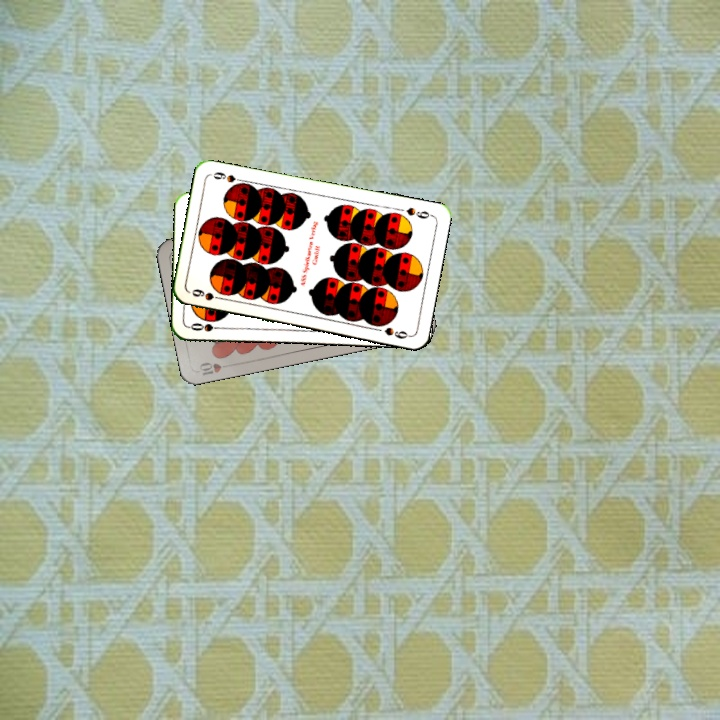H10: (195, 358, 235, 378)
S9: (188, 285, 227, 303), (402, 203, 435, 221)
SO: (186, 319, 227, 334)
